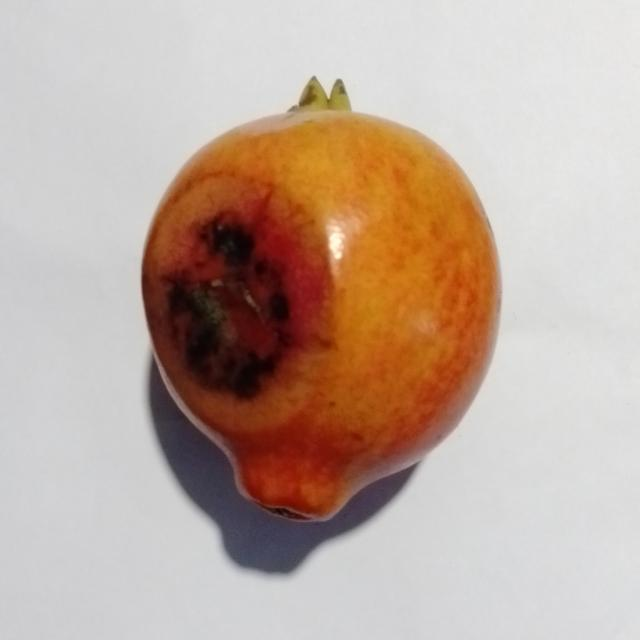Rotten: (137, 75, 506, 527)
